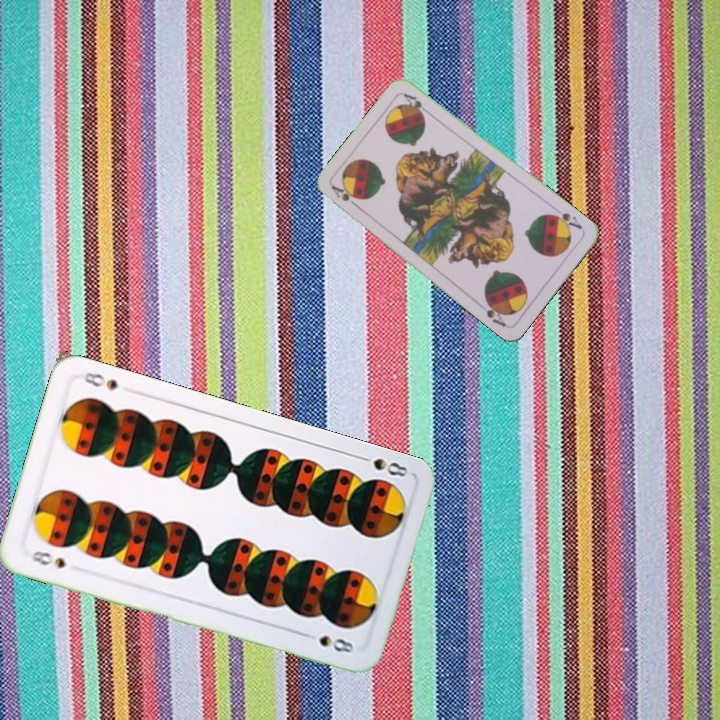S8: (354, 451, 412, 480), (26, 546, 68, 571)
SA: (327, 181, 362, 211), (547, 208, 585, 232)
